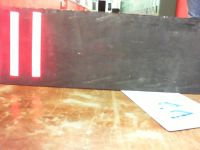switch: (9, 11, 20, 76), (31, 11, 41, 77)
